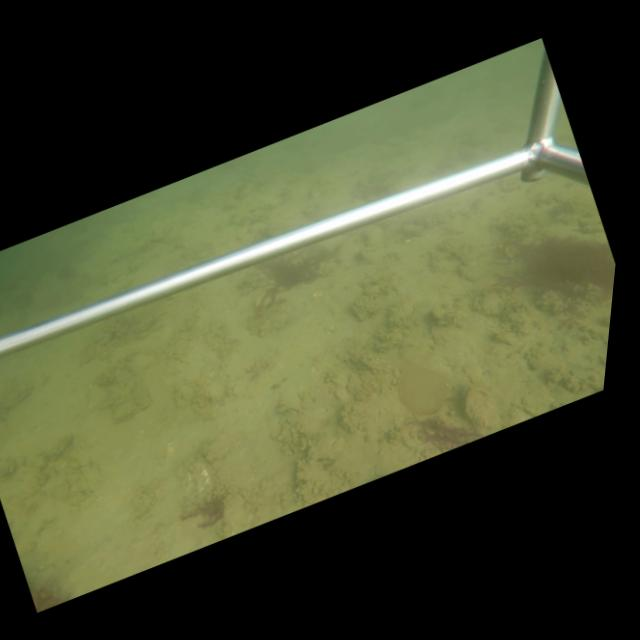Oyster-Closed: (460, 381, 503, 430)
